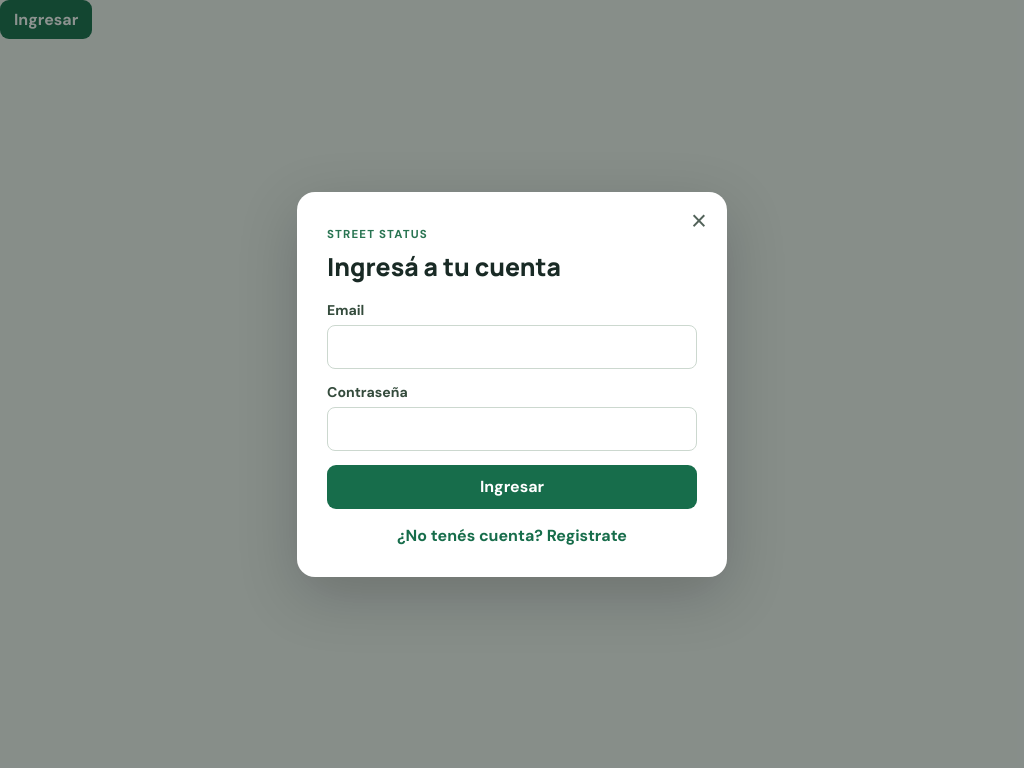
AuthPanel › opens login and registration forms
Expected: the heading "Ingresá a tu cuenta" is shown, x1=327 y1=250 x2=561 y2=282
What coordinates should you click on to do the following:
click the button "¿No tenés cuenta? Registrate"
I would click on:
 (512, 535)
Its box is x1=327 y1=524 x2=697 y2=546.
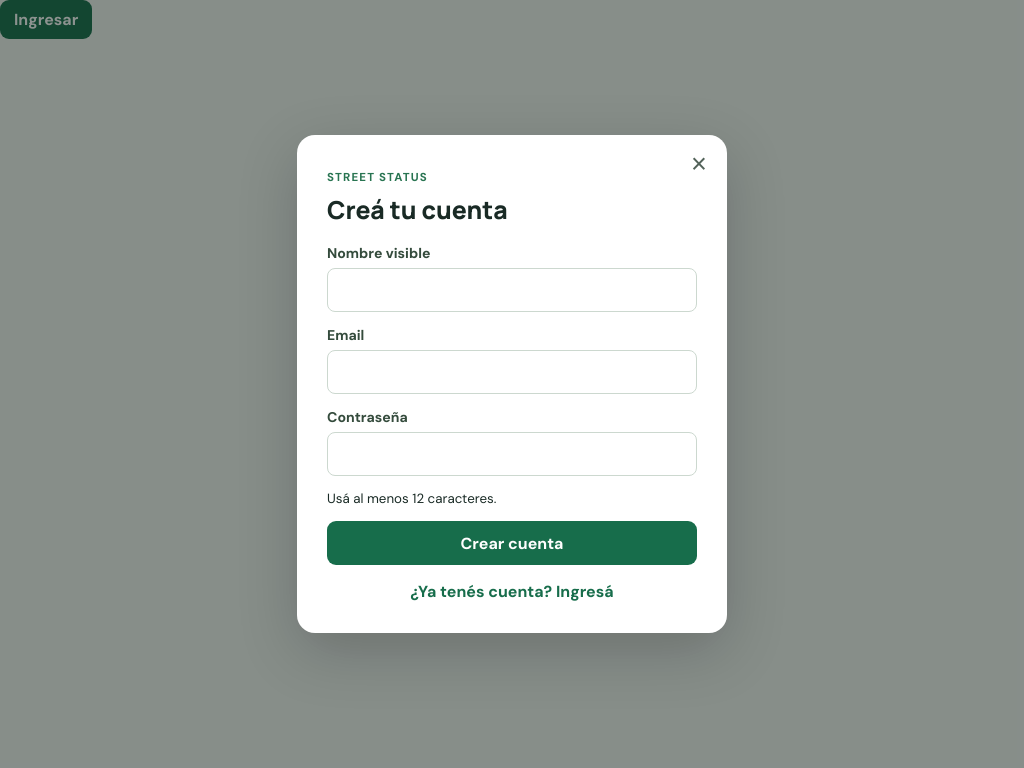
Result: the heading "Creá tu cuenta" is shown at x1=327 y1=193 x2=508 y2=226
